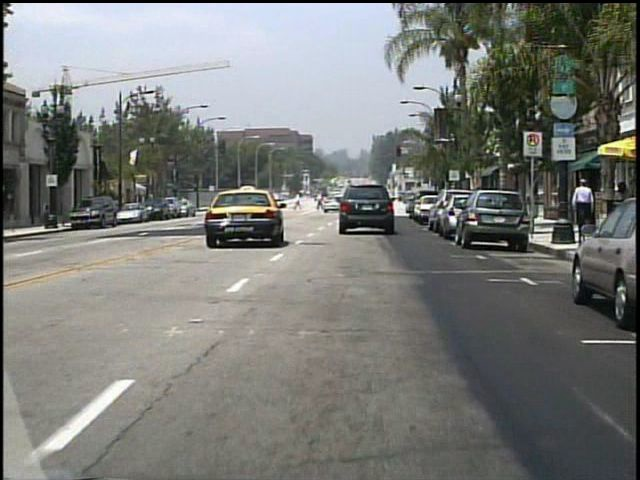person: (570, 178, 592, 225), (293, 192, 304, 212), (314, 193, 325, 212)
